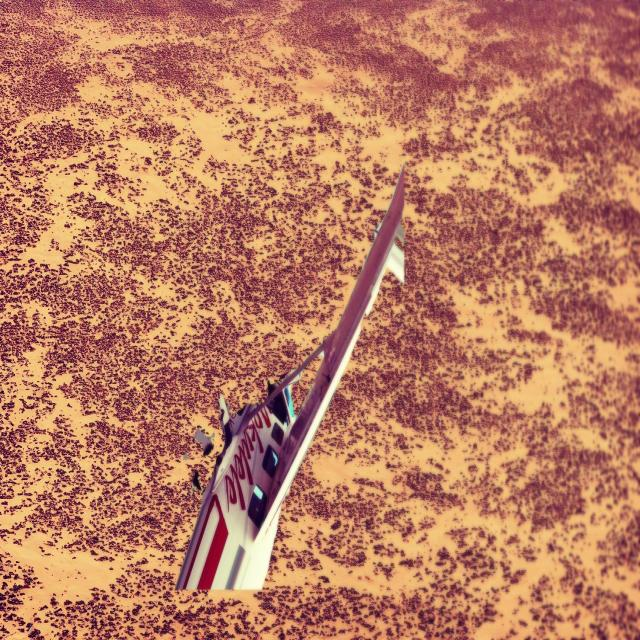airplane: (174, 162, 406, 592)
